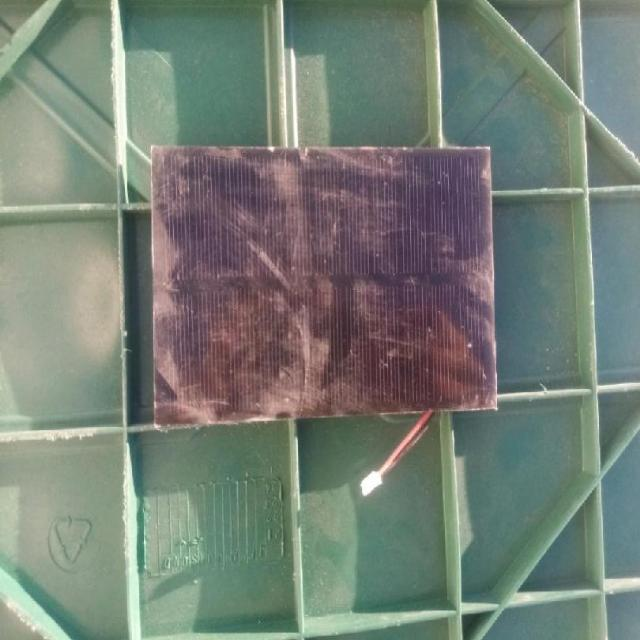faulty: (150, 143, 498, 420)
